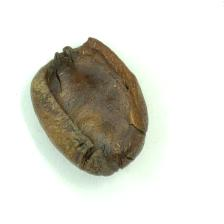NG: (43, 46, 138, 157)
